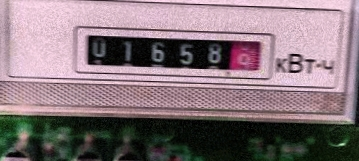0: (89, 36, 107, 58)
1: (119, 38, 134, 62)
5: (177, 41, 194, 65)
6: (148, 39, 167, 64)
8: (205, 42, 223, 64)
9: (234, 50, 251, 72)
screen: (70, 22, 277, 84)
